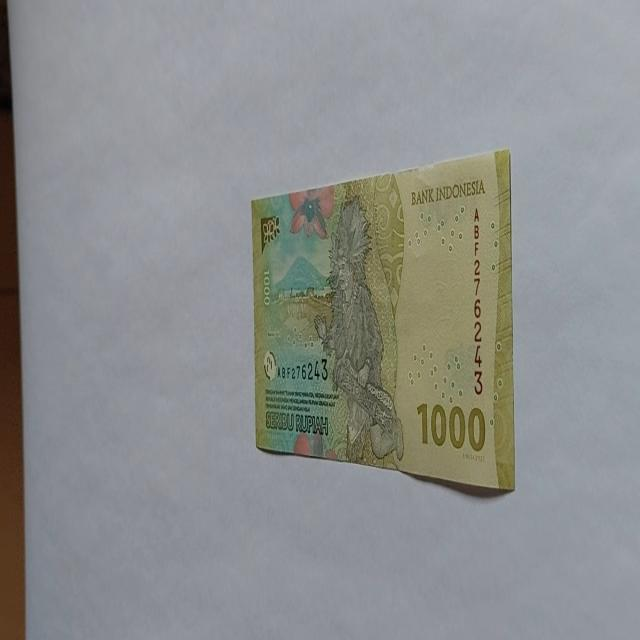seribu rupiah kertas: (250, 146, 516, 494)
